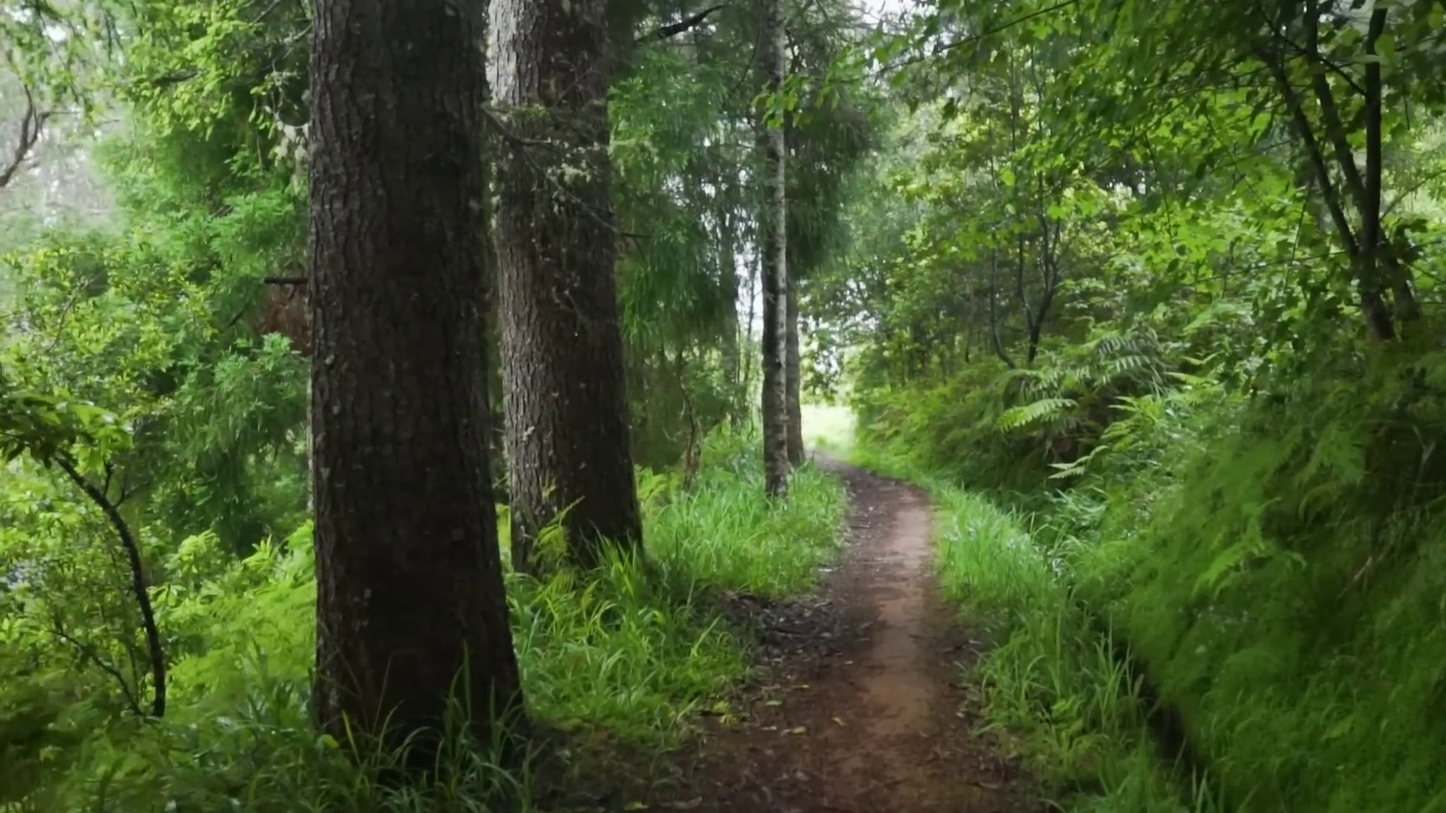tree: (309, 0, 520, 741), (489, 0, 642, 569), (756, 0, 790, 495)
